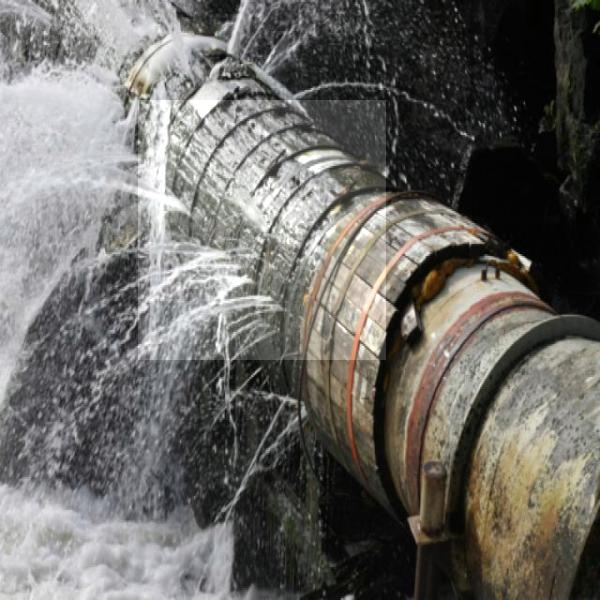water: (138, 100, 386, 360)
